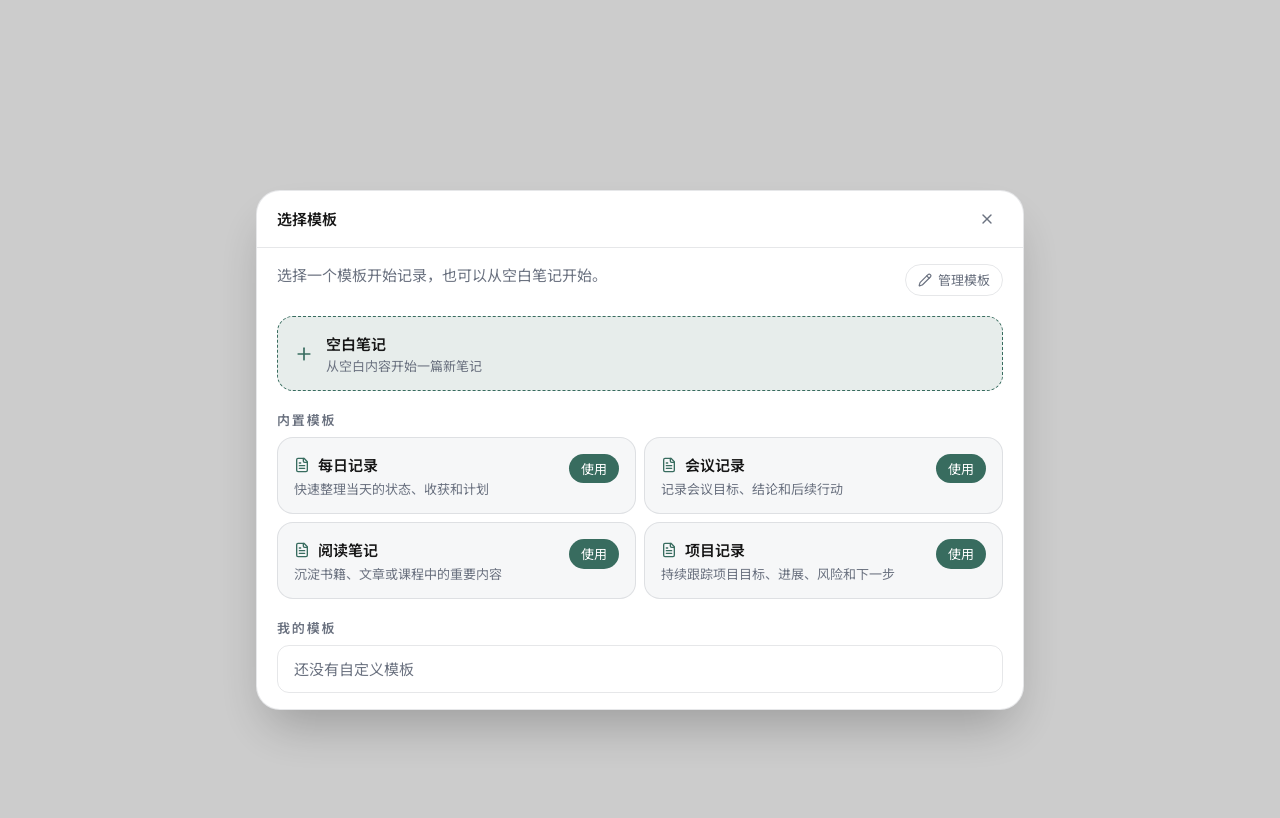
TemplatePickerModal › creates a custom template from the manage view
This screenshot has width=1280, height=818.
Click the button with test id "template-manage-btn": (954, 280) [905,264,1003,296]
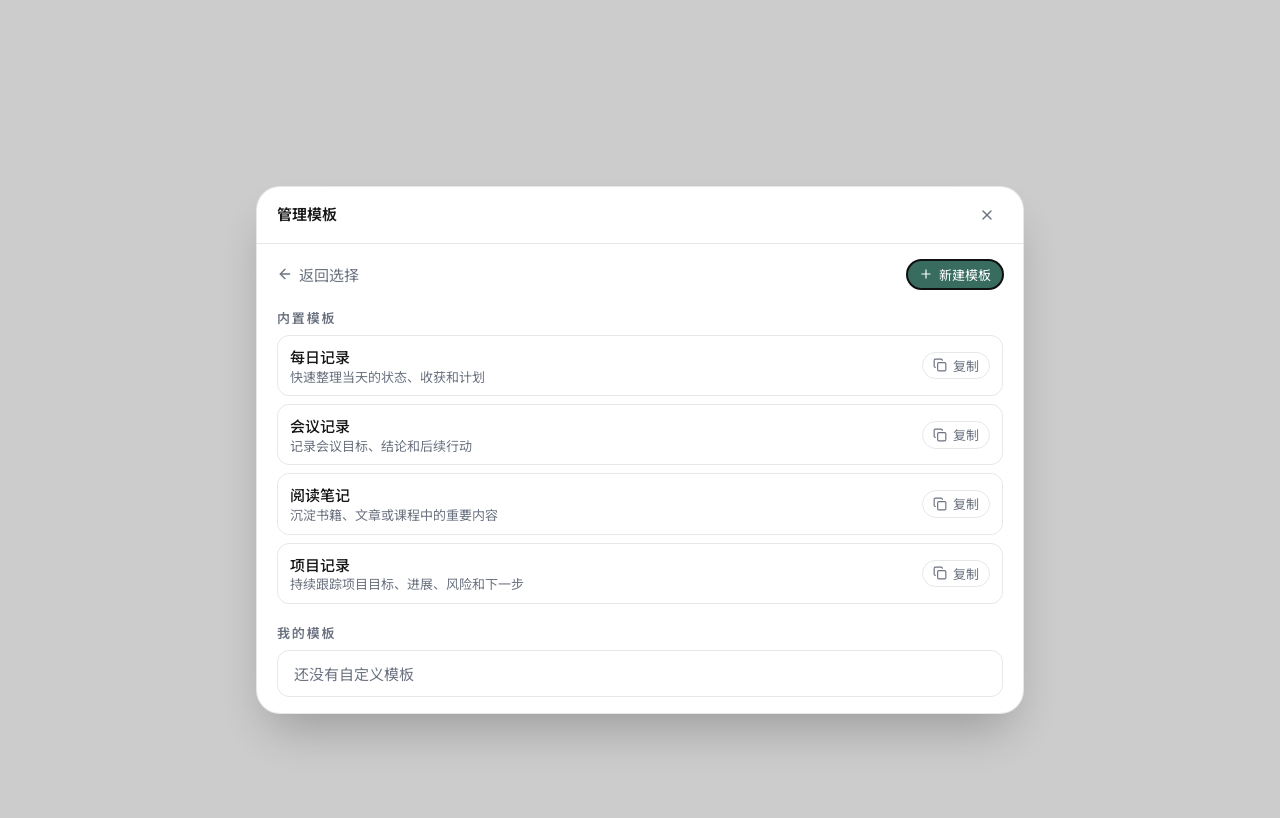
Click the button with test id "template-create-btn": (955, 274) [907,260,1003,289]
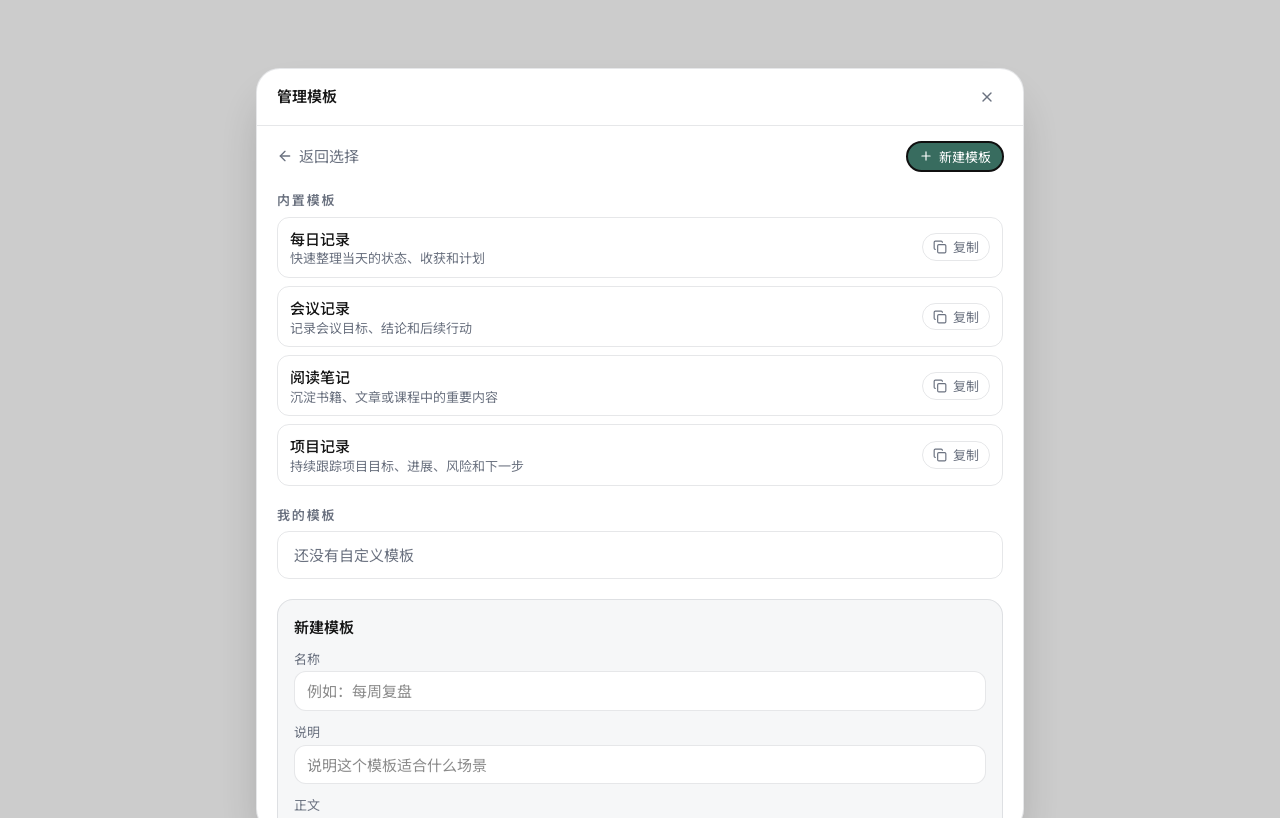
In the field with test id "template-name-input": (640, 691) [294,671,986,711], type "周复盘"
(page scrolled)
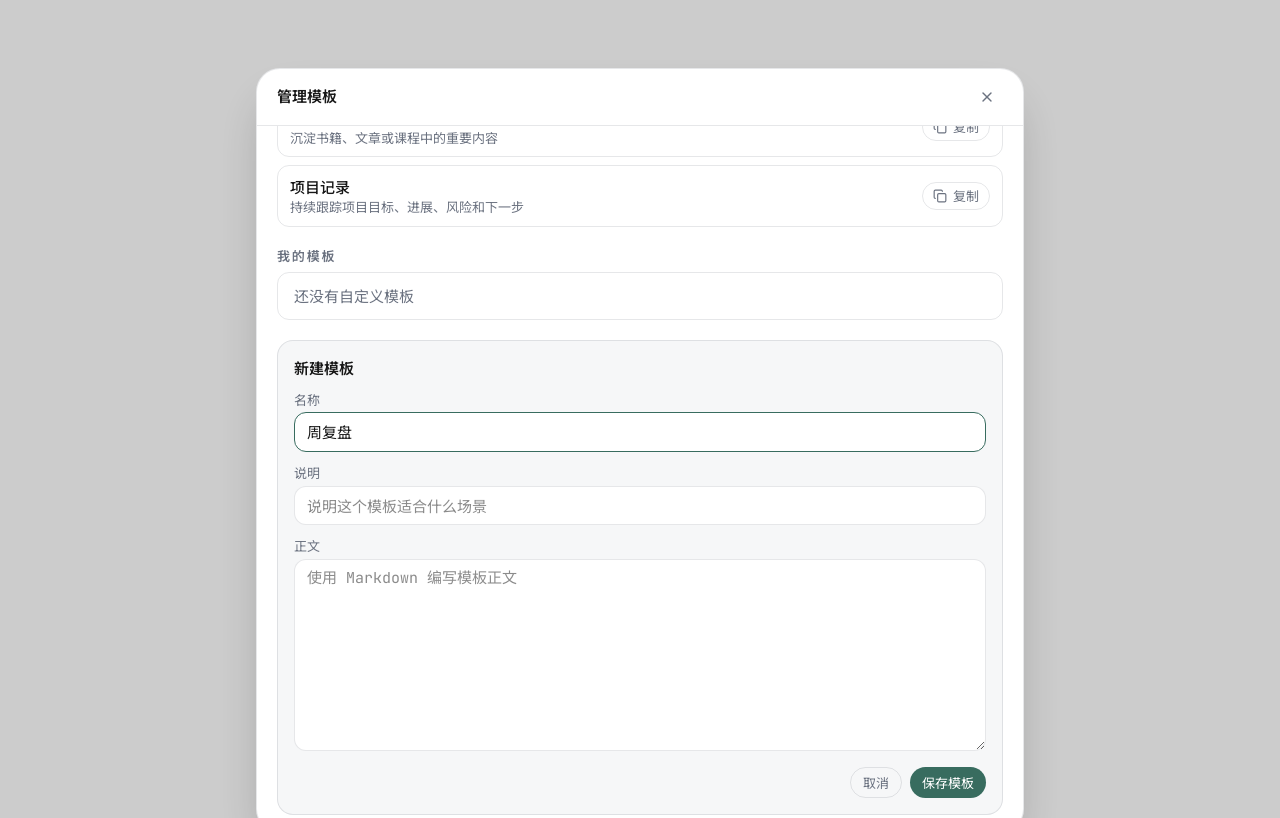
In the text box with test id "template-content-input": (640, 655) [294,559,986,751], type "# 周复盘"
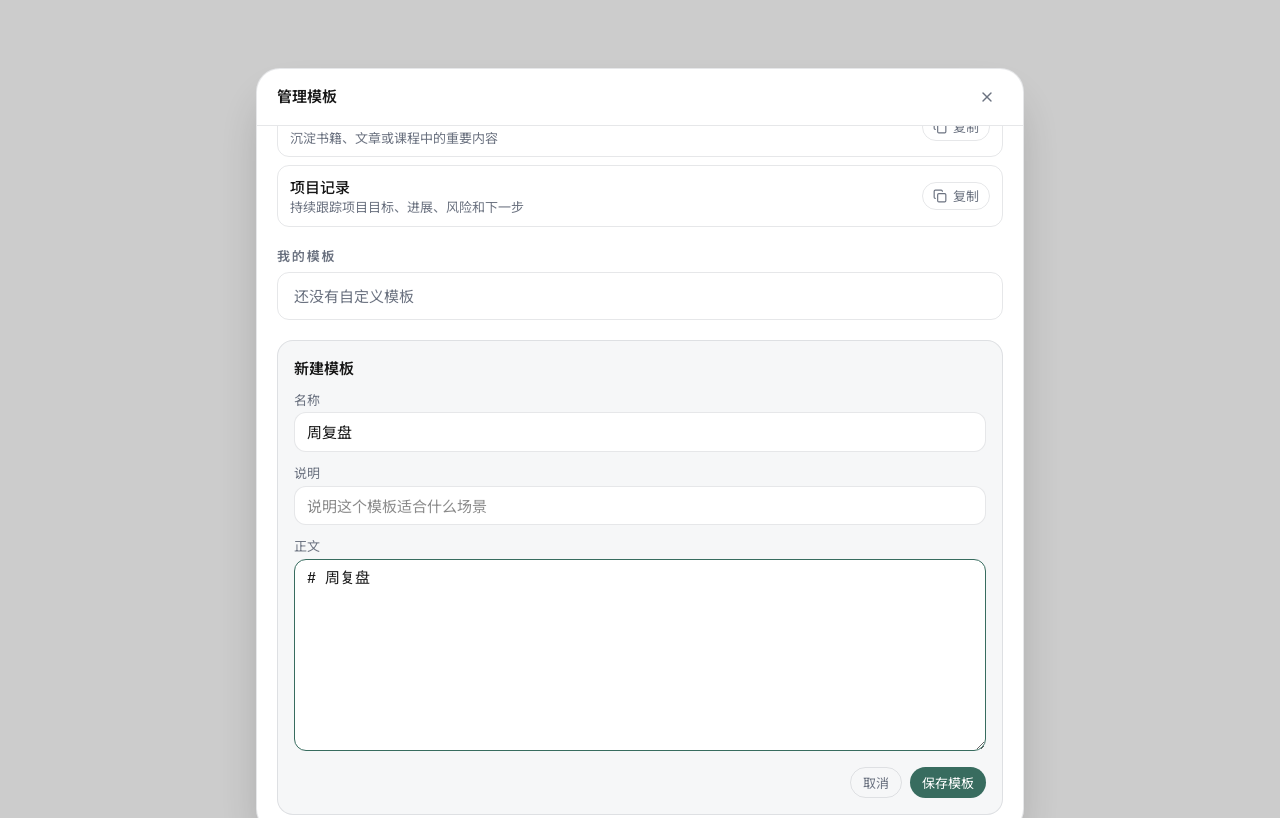
Click the button with test id "template-save-btn": (948, 782) [910,766,986,798]
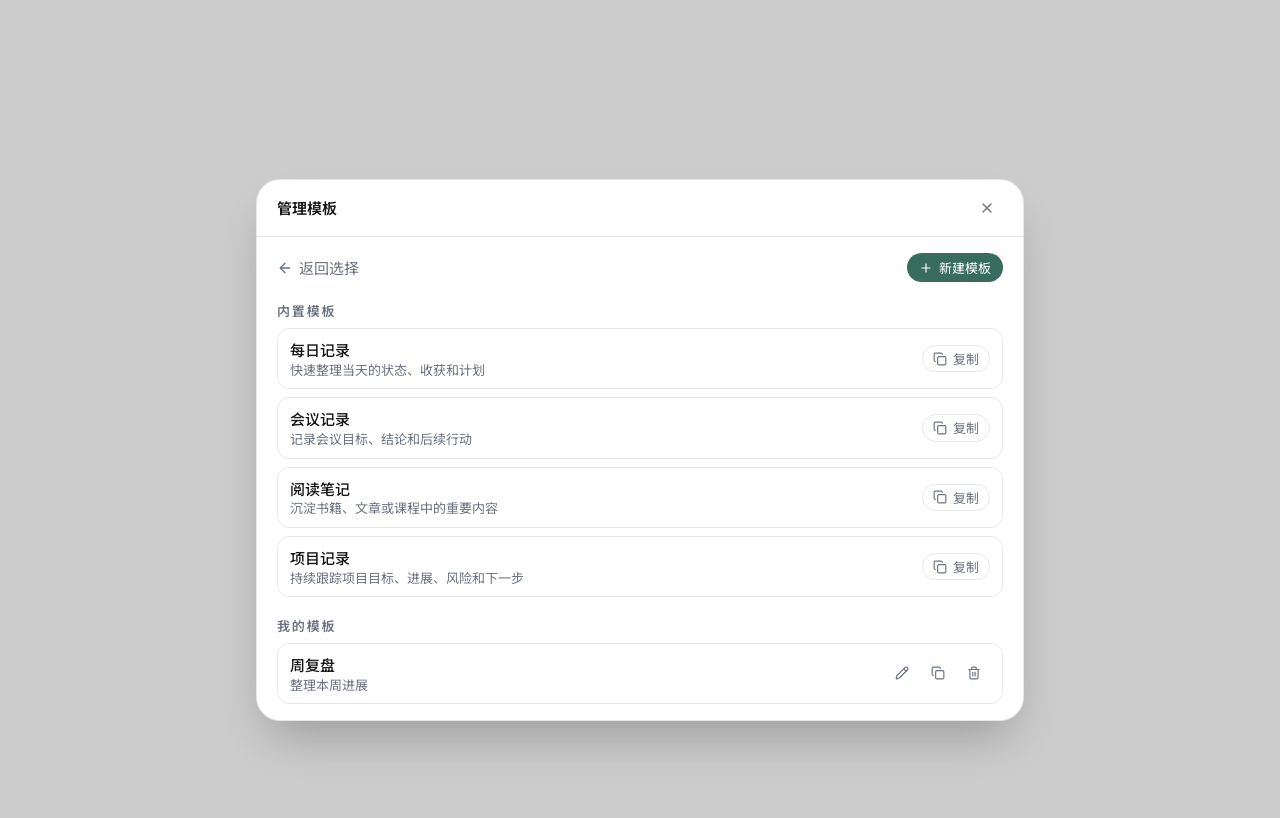
Now the text "整理本周进展" is shown, box [290,676,368,693]
